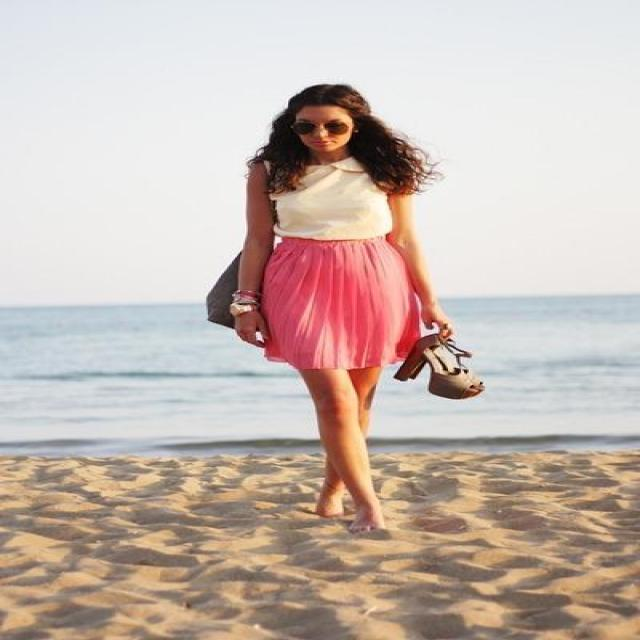bag: (206, 274, 238, 311)
shirt: (270, 166, 390, 239)
shoe: (394, 324, 483, 396)
skirt: (256, 234, 456, 370)
